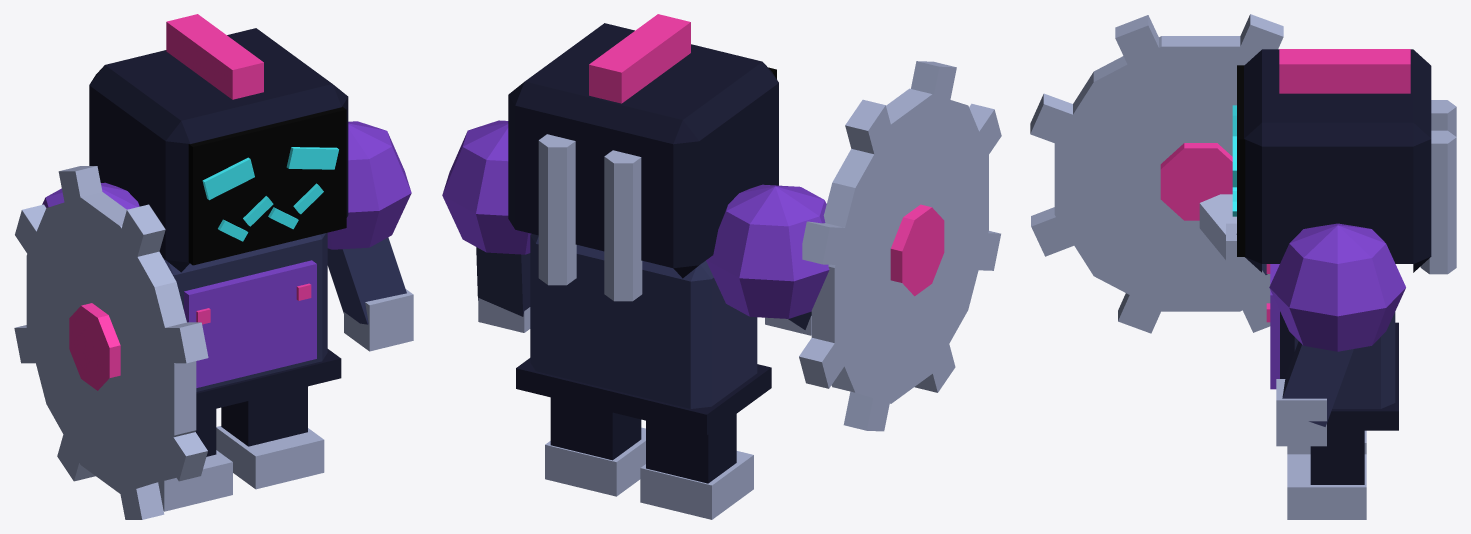
The model's file is warlord_r8.glb.
The picture shows the model from 3 angles, left to right: view 1: azimuth 30°, elevation 25°; view 2: azimuth 150°, elevation 25°; view 3: azimuth 270°, elevation 25°; orthographic projection. The views are drawn at different scales.
Visible parts, largest first — view 1: warlord_r8_mesh; view 2: warlord_r8_mesh; view 3: warlord_r8_mesh.
Boxes of the visible parts, x1,y1,x2,y2 form: warlord_r8_mesh: (14, 14, 413, 519); warlord_r8_mesh: (442, 14, 1001, 519); warlord_r8_mesh: (1030, 14, 1456, 519).
Size of the model in its own units: 3.38 by 3.6 by 3.28.
1 material, 1 textured.
